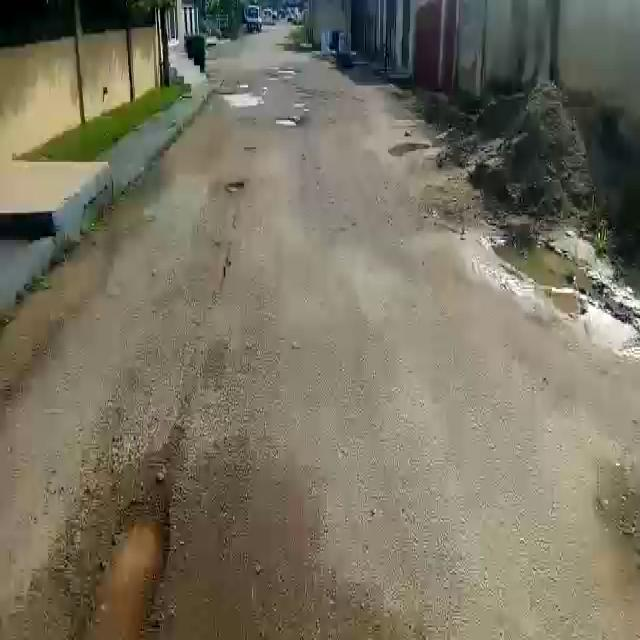Pothole: (71, 496, 169, 640), (219, 92, 265, 109), (274, 114, 304, 126), (224, 181, 246, 195)
